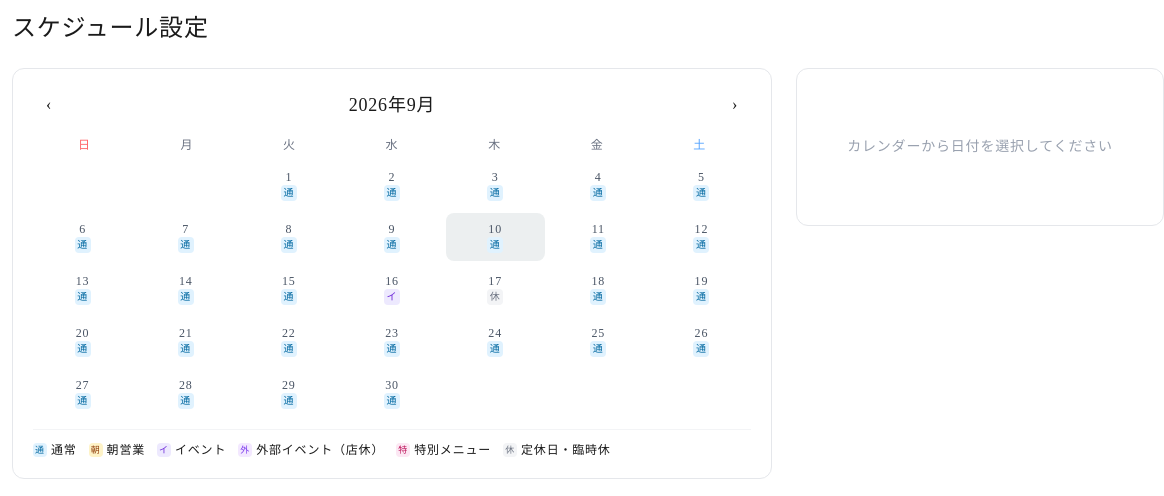
Test: ScheduleCalendar › 月移動で翌月を取得し、選択中の日付をクリアする
The width and height of the screenshot is (1164, 496).
Click the button "15 通" at (289, 289), box top-left (239, 265), bottom-right (338, 313)
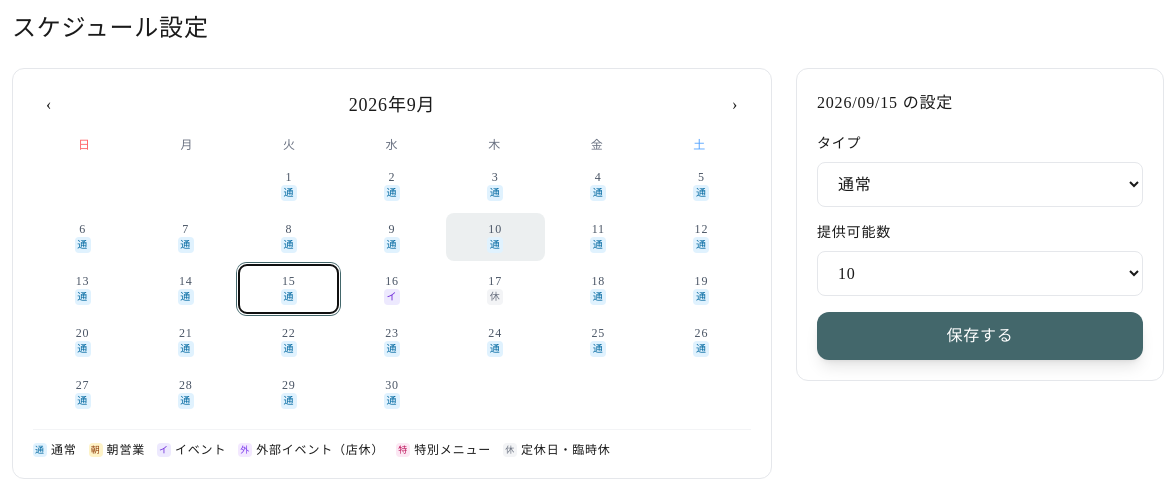
Now the heading "2026/09/15 の設定" is shown, box top-left (817, 94), bottom-right (953, 111)
Click the button named "次の月" at (735, 105), box top-left (719, 89), bottom-right (751, 121)
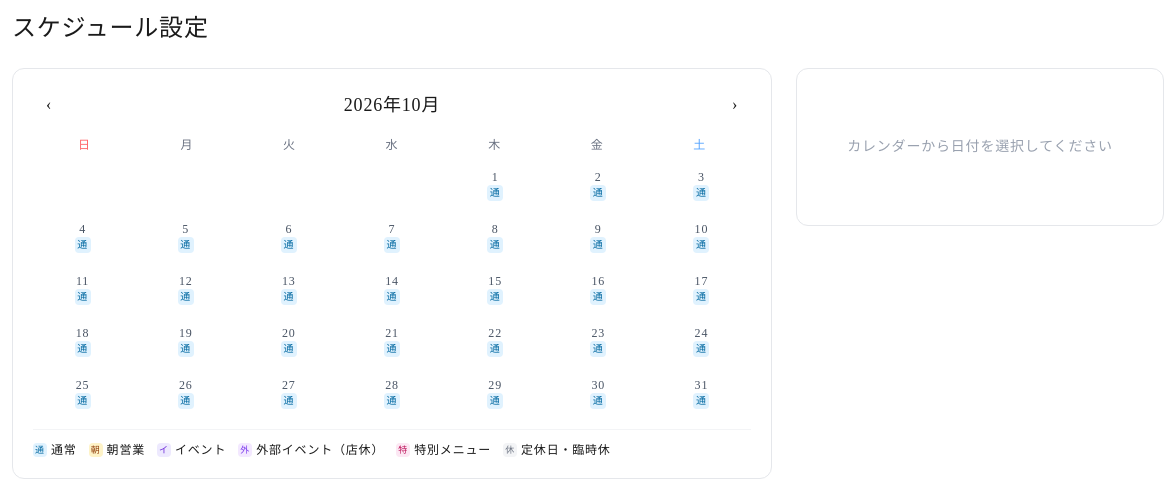
Now the text "2026年10月" is shown, box top-left (344, 91), bottom-right (440, 119)
Now the text "カレンダーから日付を選択してください" is shown, box top-left (847, 139), bottom-right (1113, 154)
